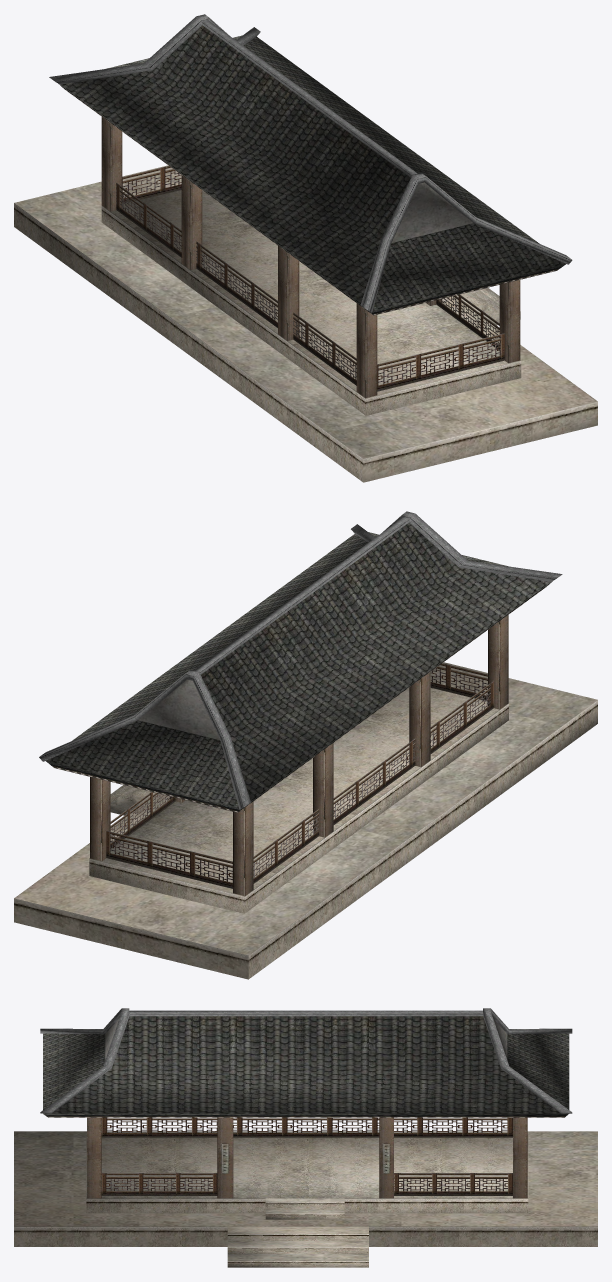
File: cj_rich2_buil03.glb
The picture shows the model from 3 angles, top to bottom: view 1: azimuth 30°, elevation 25°; view 2: azimuth 150°, elevation 25°; view 3: azimuth 270°, elevation 25°; orthographic projection. The views are drawn at different scales.
Parts seen in each view (by area): view 1: CJ_rich2_buil03_floor, CJ_rich2_buil03_roof, CJ_rich2_buil03_wall_al, CJ_rich2_buil03_wall; view 2: CJ_rich2_buil03_floor, CJ_rich2_buil03_roof, CJ_rich2_buil03_wall_al, CJ_rich2_buil03_wall; view 3: CJ_rich2_buil03_floor, CJ_rich2_buil03_roof, CJ_rich2_buil03_wall_al, CJ_rich2_buil03_wall.
Boxes of the visible parts, x1,y1,x2,y2 form: CJ_rich2_buil03_floor: [14, 165, 597, 482]; CJ_rich2_buil03_roof: [49, 14, 572, 315]; CJ_rich2_buil03_wall_al: [116, 165, 504, 391]; CJ_rich2_buil03_wall: [101, 117, 520, 397]; CJ_rich2_buil03_floor: [14, 662, 597, 979]; CJ_rich2_buil03_roof: [39, 511, 562, 812]; CJ_rich2_buil03_wall_al: [106, 663, 493, 888]; CJ_rich2_buil03_wall: [90, 615, 508, 895]; CJ_rich2_buil03_floor: [14, 1131, 597, 1267]; CJ_rich2_buil03_roof: [40, 1008, 572, 1117]; CJ_rich2_buil03_wall_al: [101, 1117, 512, 1195]; CJ_rich2_buil03_wall: [87, 1117, 527, 1198].
Size of the model in its own units: 6.49 by 4.97 by 13.77.
4 materials, 4 textured.
